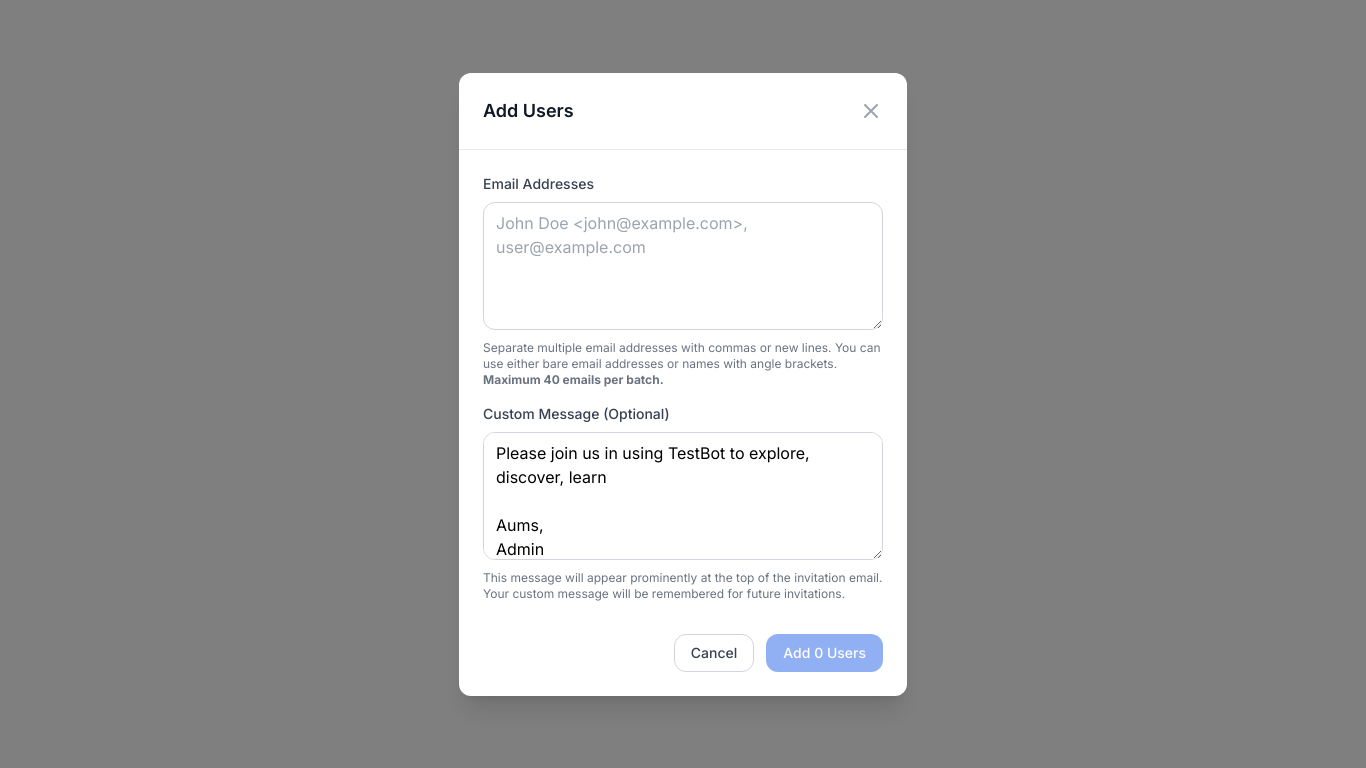
it: AddUsersModal › updates button text based on valid email count
Expected: the button "Add 0 Users" is shown, [766,634,883,672]
Note: One email
Type "user@example.com" into the text box labelled "Email Addresses". click: (683, 266)
box: [483,202,883,330]
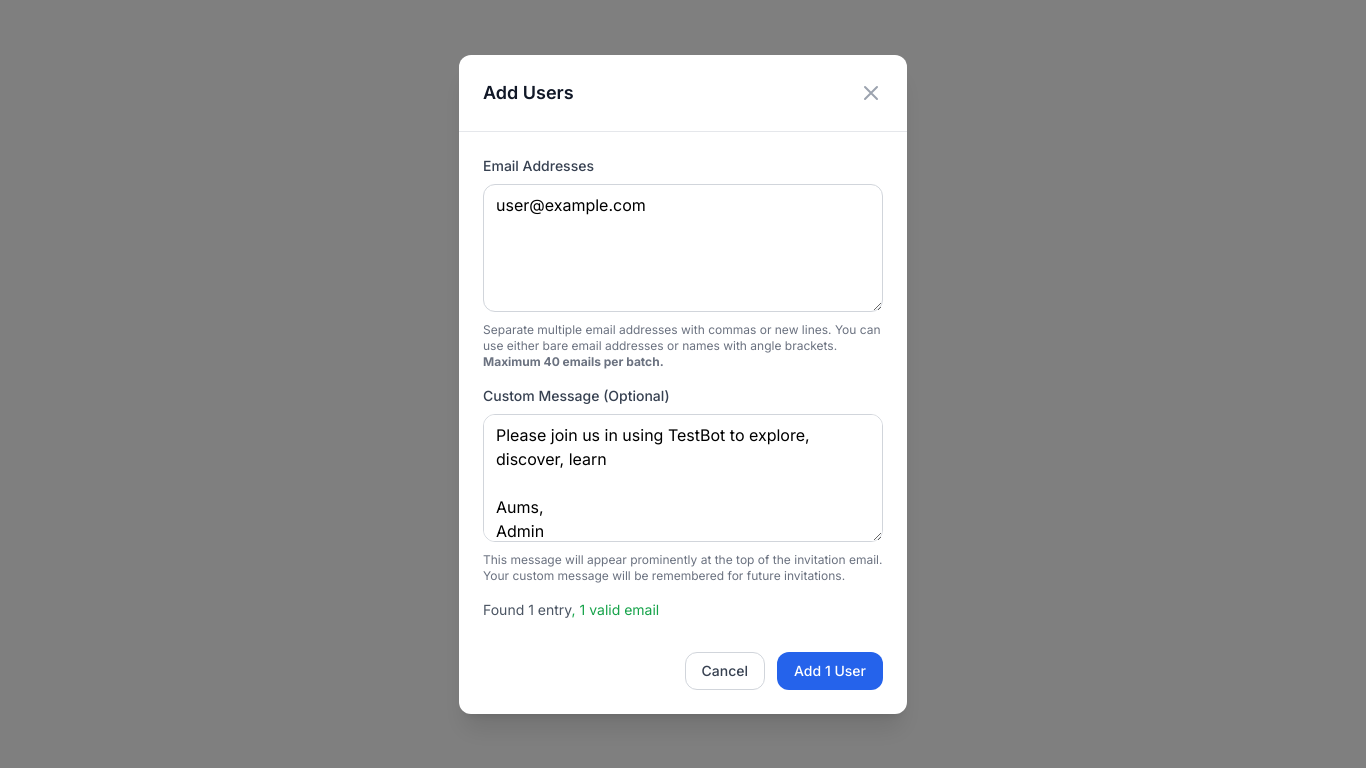
Now the button "Add 1 User" is shown, box [777,652,883,690]
Note: Multiple emails
Replace the text in the text box labelled "Email Addresses" with "user1@example.com, user2@example.com". click: (683, 248)
box: [483,184,883,312]
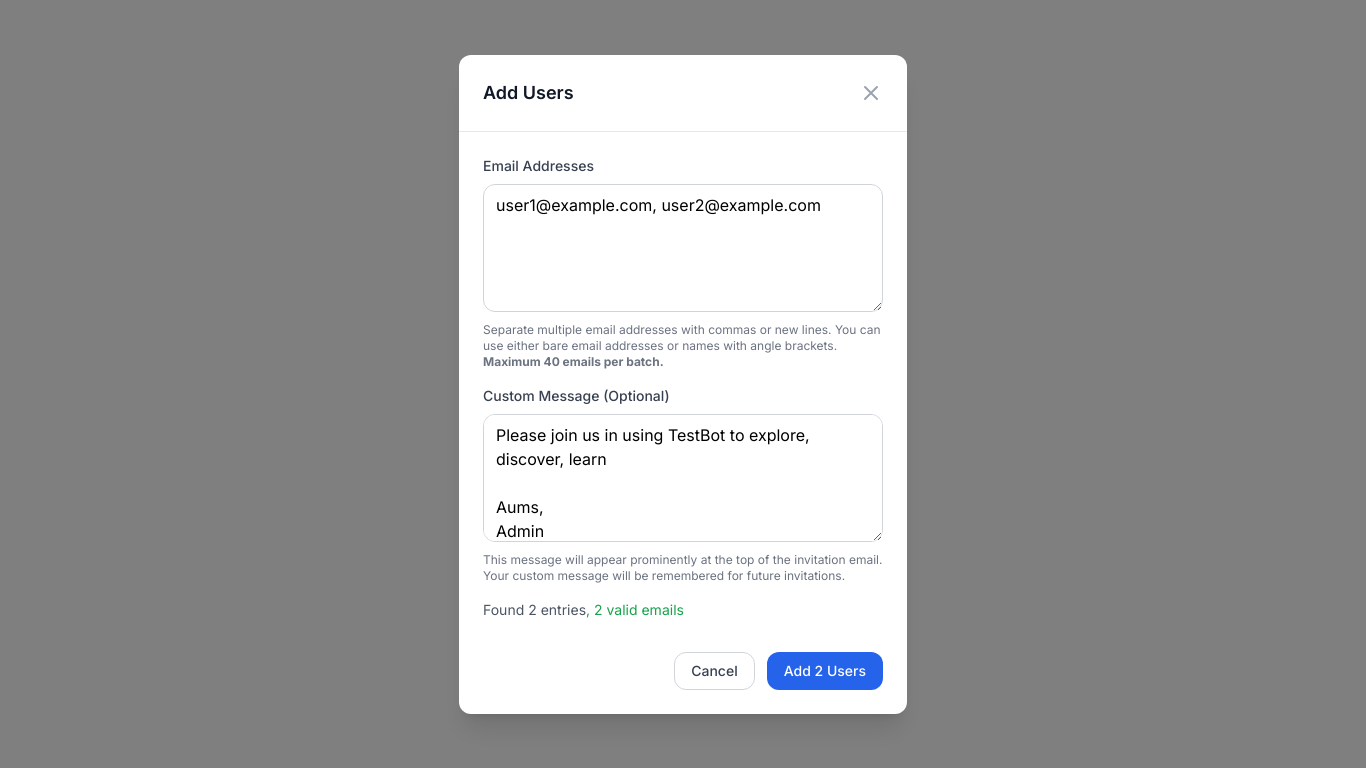
Now the button "Add 2 Users" is shown, box [767,652,883,690]
